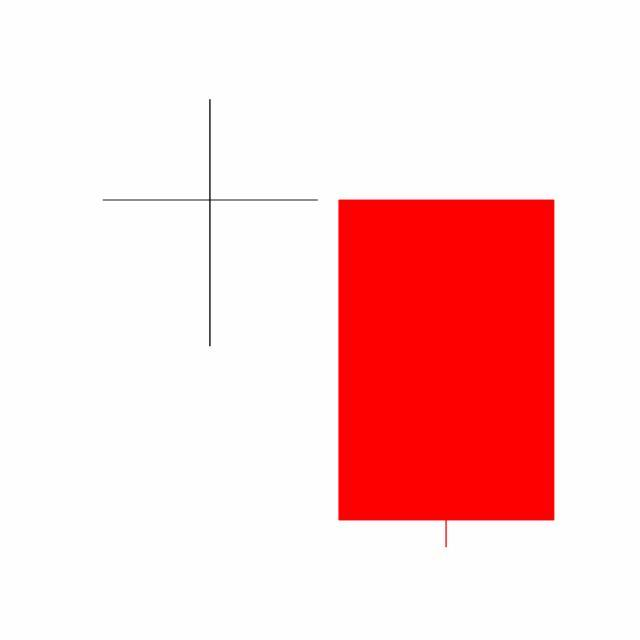Marubozu: (328, 197, 566, 552)
